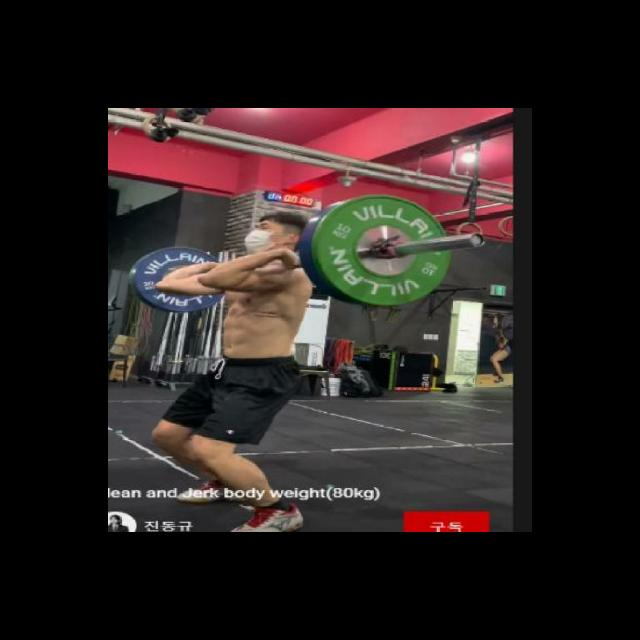barbell: (295, 189, 459, 310)
